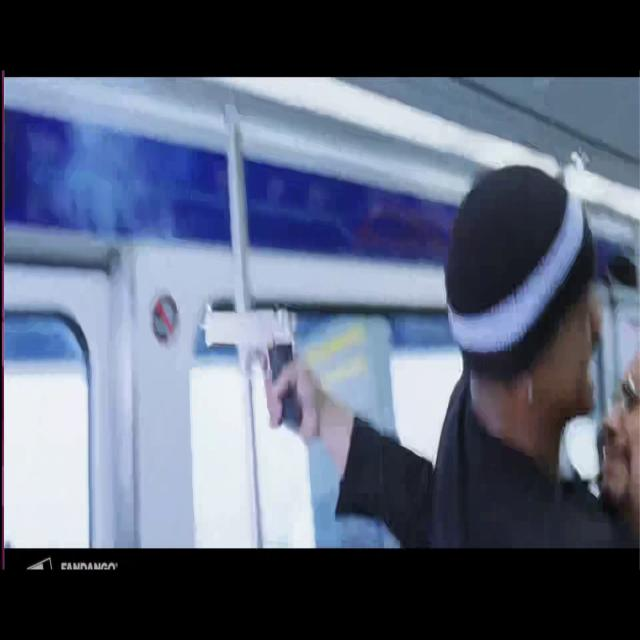weapons: (184, 274, 324, 445)
